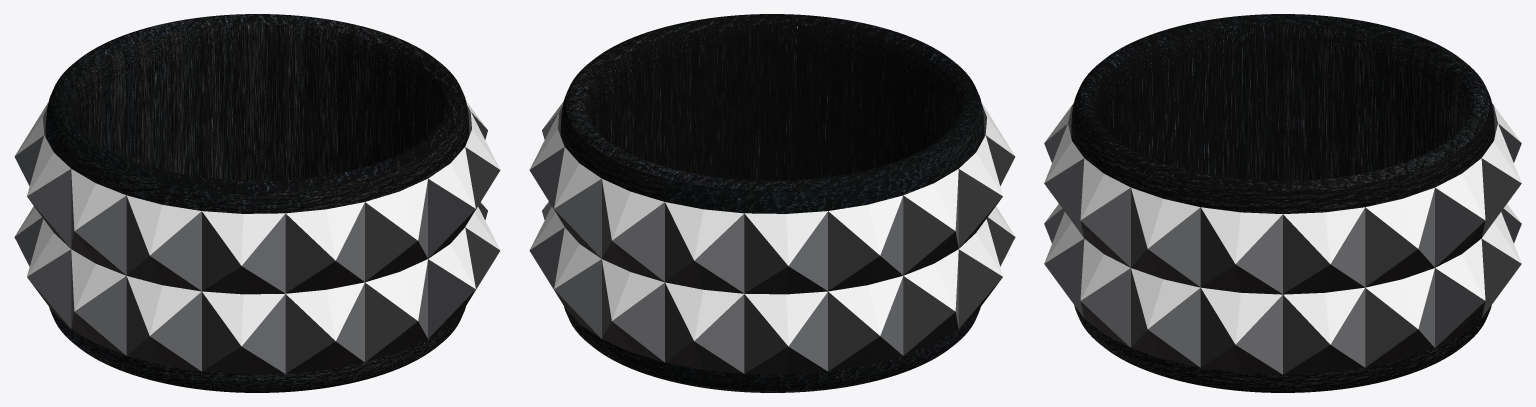
The model's file is Bracelet Piramids.fbx.
3 renders of one model, left to right at view 1: azimuth 30°, elevation 25°; view 2: azimuth 150°, elevation 25°; view 3: azimuth 270°, elevation 25°, orthographic.
Visible parts, largest first — view 1: Pyramids, Leather; view 2: Pyramids, Leather; view 3: Pyramids, Leather.
Boxes of the visible parts, bbox=[...] form: Pyramids: bbox=[14, 101, 500, 374]; Leather: bbox=[45, 14, 469, 392]; Pyramids: bbox=[529, 101, 1015, 374]; Leather: bbox=[560, 14, 984, 392]; Pyramids: bbox=[1044, 103, 1521, 374]; Leather: bbox=[1071, 14, 1494, 392].
Bounding box in the file's own units: 108 × 52.36 × 108.
2 materials, 2 textured.
